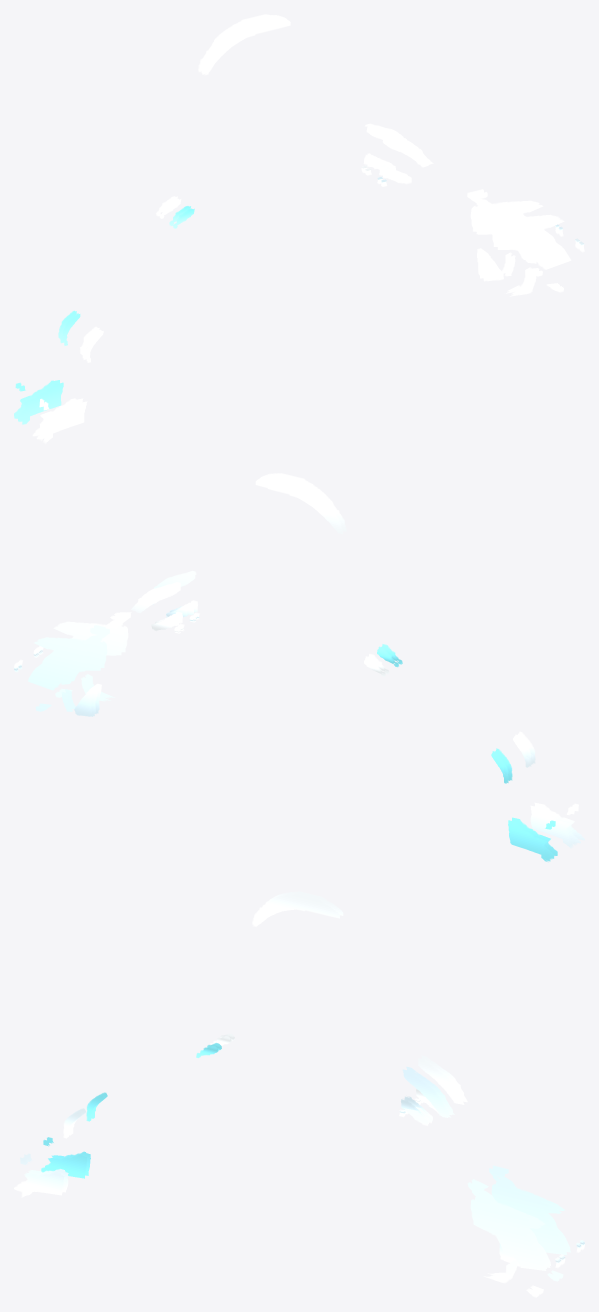
The model's file is yuna_curve_bundle_hair_v1_repair_attempt_02.glb.
3 renders of one model, top to bottom at view 1: azimuth 30°, elevation 25°; view 2: azimuth 150°, elevation 25°; view 3: azimuth 330°, elevation 25°, orthographic.
Visible parts, largest first — view 1: back_hair_mass_repair_02_01_01, bangs_primary_repair_02_01_01, side_hair_right_primary_repair_02_01_01, back_hair_mass_repair_02_02_01, side_hair_left_primary_repair_02_01_01, side_hair_right_primary_repair_02_02_01, side_hair_right_primary_repair_02_03_01; view 2: side_hair_right_primary_repair_02_01_02, bangs_primary_repair_02_01_02, side_hair_right_primary_repair_02_01_01, back_hair_mass_repair_02_01_01, back_hair_mass_repair_02_01_03, side_hair_left_primary_repair_02_01_02, back_hair_mass_repair_02_02_03, bangs_primary_repair_02_01_01, bangs_primary_repair_02_02_02; view 3: back_hair_mass_repair_02_01_01, side_hair_right_primary_repair_02_01_01, bangs_primary_repair_02_01_01, side_hair_right_primary_repair_02_02_01, back_hair_mass_repair_02_02_01, side_hair_left_primary_repair_02_01_01, bangs_primary_repair_02_02_01, back_hair_mass_repair_02_01_02, back_hair_mass_repair_02_01_03, side_hair_right_primary_repair_02_01_02.
Boxes of the visible parts, x1=… form: back_hair_mass_repair_02_01_01: x1=489, y1=207, x2=571, y2=296; bangs_primary_repair_02_01_01: x1=201, y1=15, x2=290, y2=75; side_hair_right_primary_repair_02_01_01: x1=470, y1=190, x2=543, y2=276; back_hair_mass_repair_02_02_01: x1=32, y1=398, x2=87, y2=443; side_hair_left_primary_repair_02_01_01: x1=14, y1=380, x2=63, y2=424; side_hair_right_primary_repair_02_02_01: x1=382, y1=135, x2=433, y2=183; side_hair_right_primary_repair_02_03_01: x1=477, y1=249, x2=503, y2=281; side_hair_right_primary_repair_02_01_02: x1=28, y1=625, x2=109, y2=711; bangs_primary_repair_02_01_02: x1=267, y1=474, x2=346, y2=534; side_hair_right_primary_repair_02_01_01: x1=28, y1=625, x2=107, y2=711; back_hair_mass_repair_02_01_01: x1=55, y1=612, x2=131, y2=700; back_hair_mass_repair_02_01_03: x1=53, y1=613, x2=129, y2=701; side_hair_left_primary_repair_02_01_02: x1=509, y1=819, x2=554, y2=862; back_hair_mass_repair_02_02_03: x1=530, y1=805, x2=575, y2=848; bangs_primary_repair_02_01_01: x1=255, y1=473, x2=344, y2=526; bangs_primary_repair_02_02_02: x1=135, y1=582, x2=180, y2=622; back_hair_mass_repair_02_01_01: x1=467, y1=1180, x2=550, y2=1297; side_hair_right_primary_repair_02_01_01: x1=491, y1=1167, x2=570, y2=1281; bangs_primary_repair_02_01_01: x1=253, y1=892, x2=343, y2=926; side_hair_right_primary_repair_02_02_01: x1=403, y1=1067, x2=454, y2=1124; back_hair_mass_repair_02_02_01: x1=14, y1=1154, x2=68, y2=1197; side_hair_left_primary_repair_02_01_01: x1=41, y1=1138, x2=90, y2=1178; bangs_primary_repair_02_02_01: x1=418, y1=1056, x2=467, y2=1104; back_hair_mass_repair_02_01_02: x1=468, y1=1179, x2=549, y2=1296; back_hair_mass_repair_02_01_03: x1=469, y1=1179, x2=550, y2=1295; side_hair_right_primary_repair_02_01_02: x1=489, y1=1165, x2=570, y2=1280.
Bounding box in the file's own units: 3.09 × 1.82 × 0.412.
Materials: 5 (4 with a texture image).
